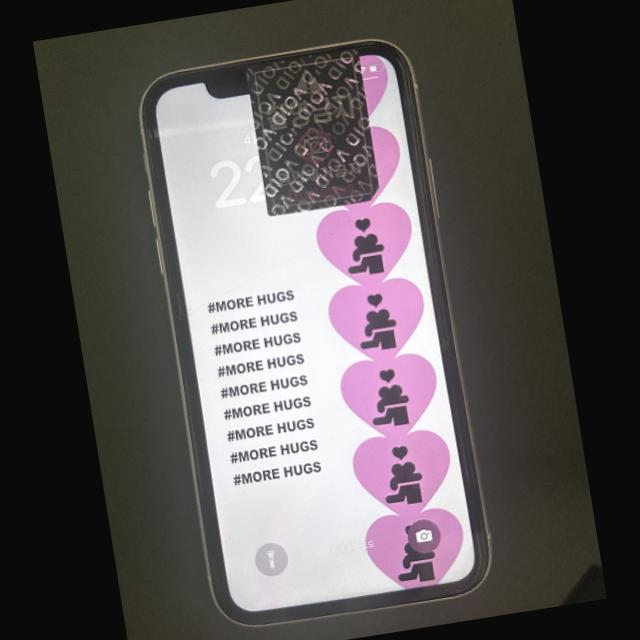phone: (141, 41, 490, 624)
sticker: (246, 48, 379, 216)
